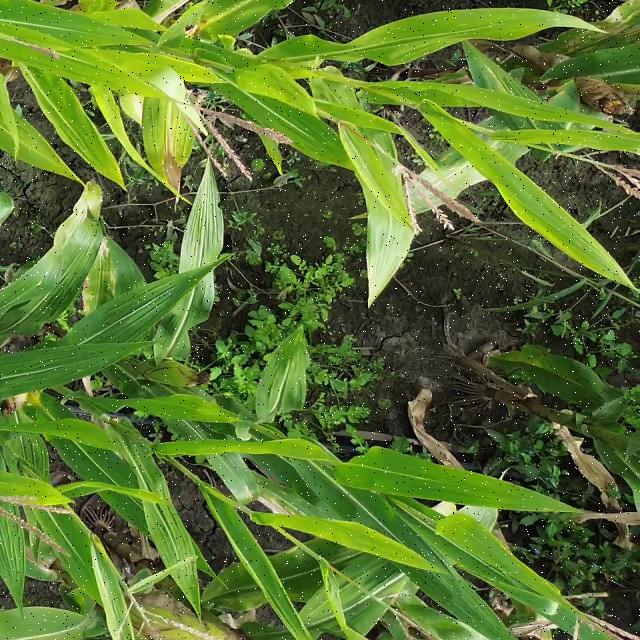gray-leaf-spot: (570, 12, 640, 56)
northern-leaf-blight: (148, 106, 203, 195)
southern-leaf-blight: (82, 246, 128, 310)
